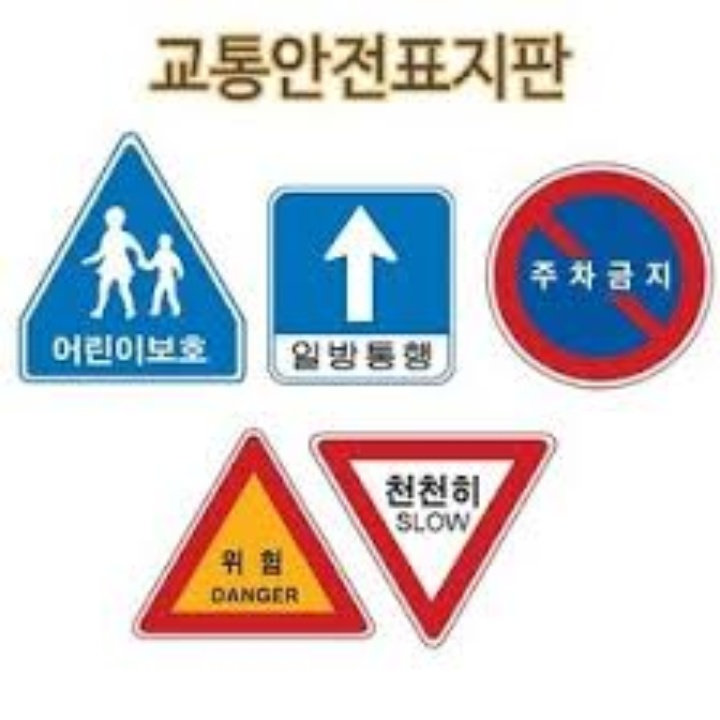child: (71, 197, 190, 325)
